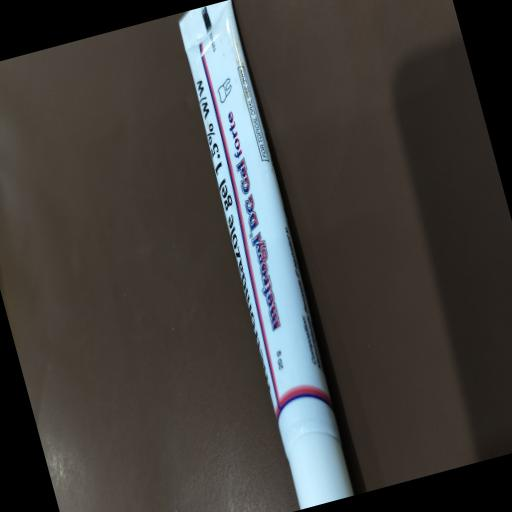medicine: (160, 0, 377, 510)
metrogyl-DG-Gel: (210, 104, 293, 334)
